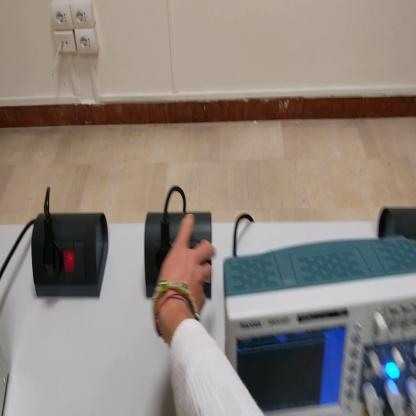hand: (156, 210, 216, 328)
oscilloscope: (223, 229, 416, 415)
power supply: (2, 341, 11, 415)
socket: (31, 212, 110, 303), (142, 209, 211, 297)
